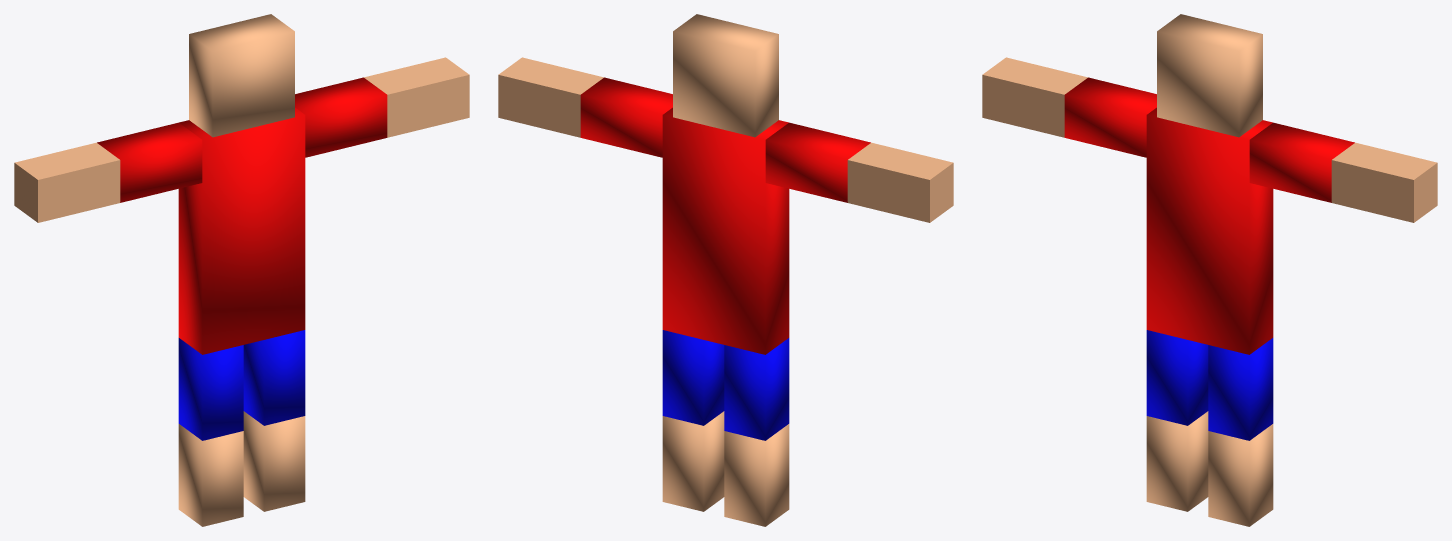
Rendered from human.fbx.
3 renders of one model, left to right at view 1: azimuth 30°, elevation 25°; view 2: azimuth 150°, elevation 25°; view 3: azimuth 330°, elevation 25°, orthographic.
Visible parts, largest first — view 1: Body, Face, LeftArm, LeftThigh, LeftCalf, RightArm, LeftShoulder, RightCalf, RightShoulder, RightThigh; view 2: Body, Face, LeftArm, LeftThigh, LeftCalf, RightArm, LeftShoulder, RightCalf, RightShoulder, RightThigh; view 3: Body, Face, RightArm, RightThigh, RightCalf, LeftArm, RightShoulder, LeftCalf, LeftShoulder, LeftThigh.
Boxes of the visible parts, x1=… form: Body: x1=178, y1=107, x2=305, y2=354; Face: x1=189, y1=14, x2=294, y2=137; LeftArm: x1=14, y1=142, x2=120, y2=222; LeftThigh: x1=178, y1=338, x2=243, y2=440; LeftCalf: x1=178, y1=424, x2=243, y2=526; RightArm: x1=364, y1=57, x2=469, y2=137; LeftShoulder: x1=97, y1=122, x2=202, y2=202; RightCalf: x1=243, y1=411, x2=305, y2=511; RightShoulder: x1=295, y1=77, x2=387, y2=157; RightThigh: x1=243, y1=330, x2=305, y2=425; Body: x1=662, y1=107, x2=789, y2=354; Face: x1=673, y1=14, x2=778, y2=137; LeftArm: x1=847, y1=142, x2=953, y2=222; LeftThigh: x1=724, y1=338, x2=789, y2=440; LeftCalf: x1=724, y1=424, x2=789, y2=526; RightArm: x1=498, y1=57, x2=603, y2=137; LeftShoulder: x1=765, y1=122, x2=870, y2=202; RightCalf: x1=662, y1=411, x2=724, y2=511; RightShoulder: x1=580, y1=77, x2=672, y2=157; RightThigh: x1=662, y1=330, x2=724, y2=425; Body: x1=1146, y1=107, x2=1273, y2=354; Face: x1=1157, y1=14, x2=1262, y2=137; RightArm: x1=1331, y1=142, x2=1437, y2=222; RightThigh: x1=1208, y1=338, x2=1273, y2=440; RightCalf: x1=1208, y1=424, x2=1273, y2=526; LeftArm: x1=982, y1=57, x2=1087, y2=137; RightShoulder: x1=1249, y1=122, x2=1354, y2=202; LeftCalf: x1=1146, y1=411, x2=1208, y2=511; LeftShoulder: x1=1064, y1=77, x2=1156, y2=157; LeftThigh: x1=1146, y1=330, x2=1208, y2=425.
Size of the model in its own units: 210 by 220 by 20.
